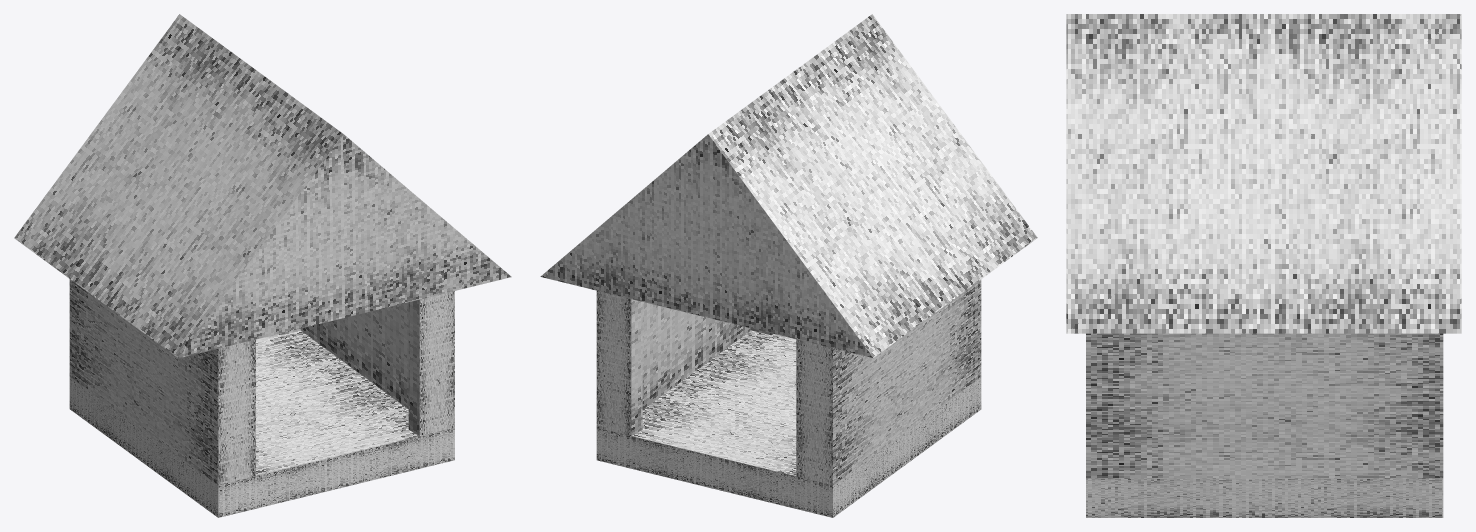
Rendered from shrine.fbx.
3 views of the same model, side by side, from view 1: azimuth 30°, elevation 25°; view 2: azimuth 150°, elevation 25°; view 3: azimuth 270°, elevation 25° (orthographic). The views are drawn at different scales.
Parts seen in each view (by area): view 1: lightHouse; view 2: lightHouse; view 3: lightHouse.
Boxes of the visible parts, bbox=[...] form: lightHouse: bbox=[14, 14, 511, 517]; lightHouse: bbox=[540, 14, 1037, 517]; lightHouse: bbox=[1066, 14, 1461, 517].
Bounding box in the file's own units: 8.18 × 8.46 × 6.98.
